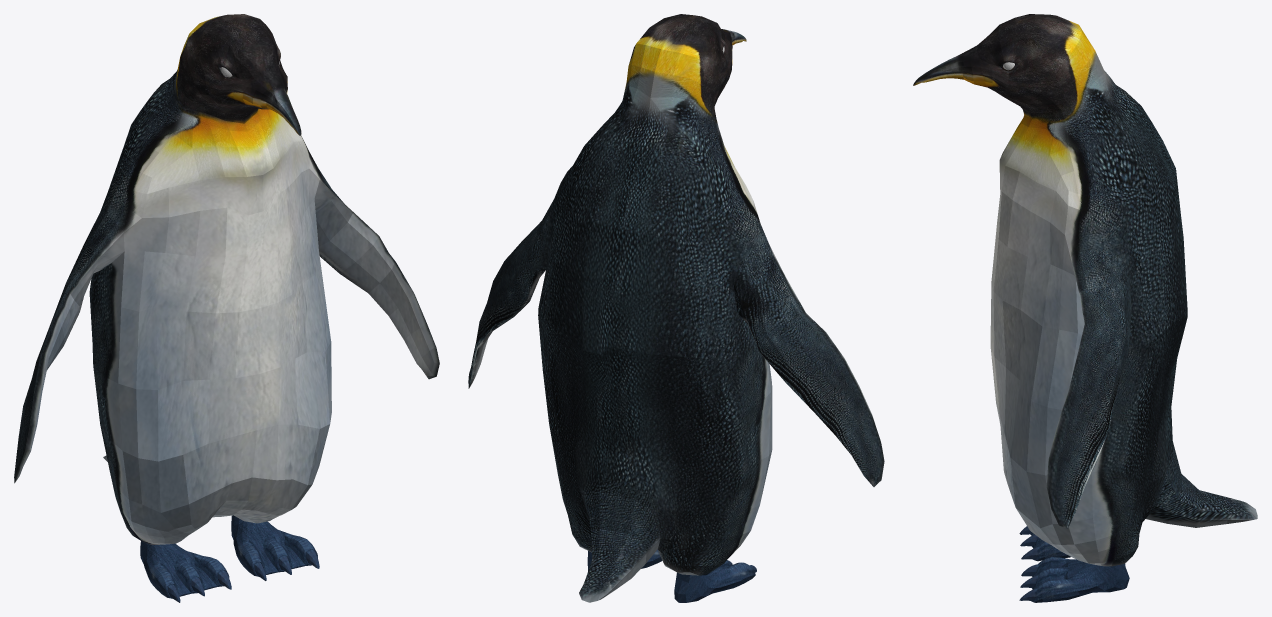
The model's file is Peng.glb.
3 views of the same model, side by side, from view 1: azimuth 30°, elevation 25°; view 2: azimuth 150°, elevation 25°; view 3: azimuth 270°, elevation 25° (orthographic). The views are drawn at different scales.
Visible parts, largest first — view 1: penguin.001; view 2: penguin.001; view 3: penguin.001.
Part boxes in pixels (x1,y1,x2,y2): penguin.001: [14, 14, 439, 602]; penguin.001: [468, 14, 884, 602]; penguin.001: [913, 14, 1257, 602].
Bounding box in the file's own units: 18.41 × 23.29 × 13.23.
3 materials, 1 textured.
